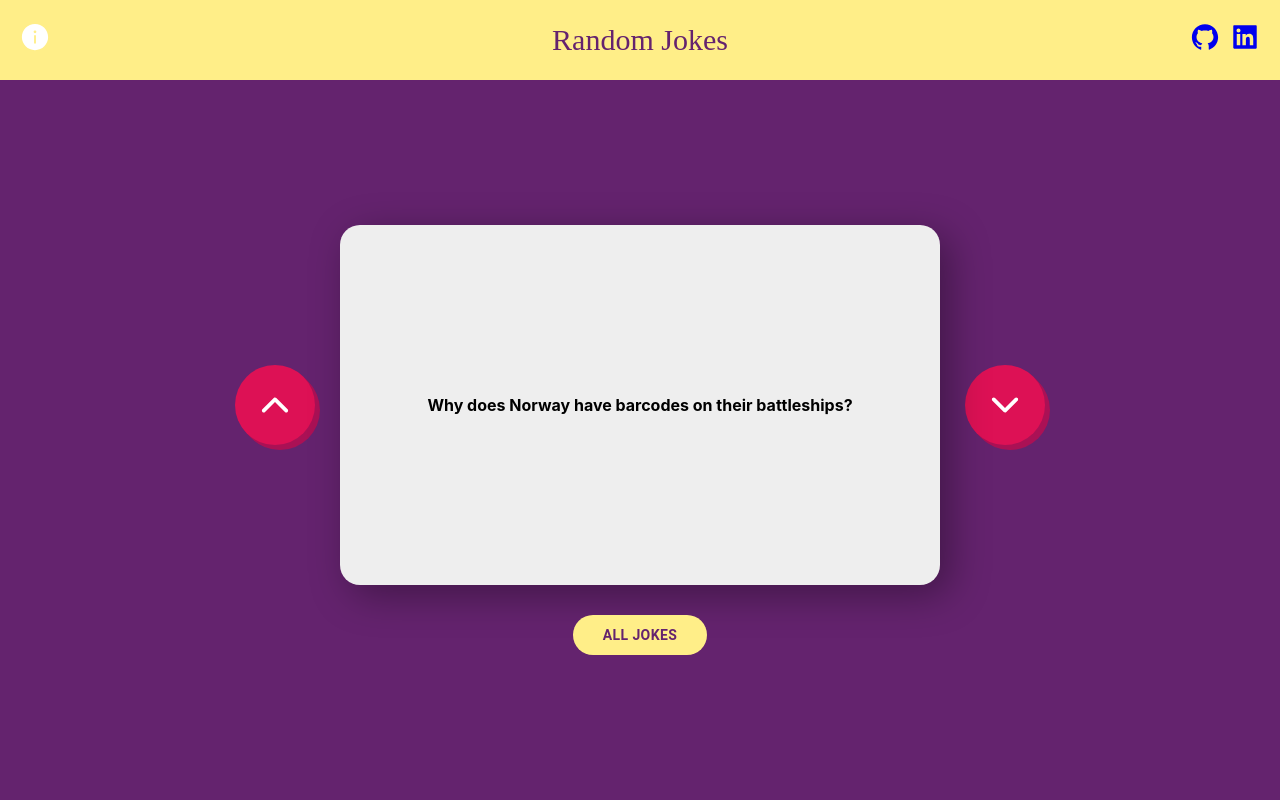
Test: Clicking JokeCard reveals the joke
The width and height of the screenshot is (1280, 800).
Expected: the text "Why does Norway have barcodes on their battleships?" is shown, [427,395,853,415]
Expected: the text "So when they get back to port, they can Scandinavian." is not shown
Click the button with test id "joke-card-setup".
click(640, 405)  # box [340,225,940,585]
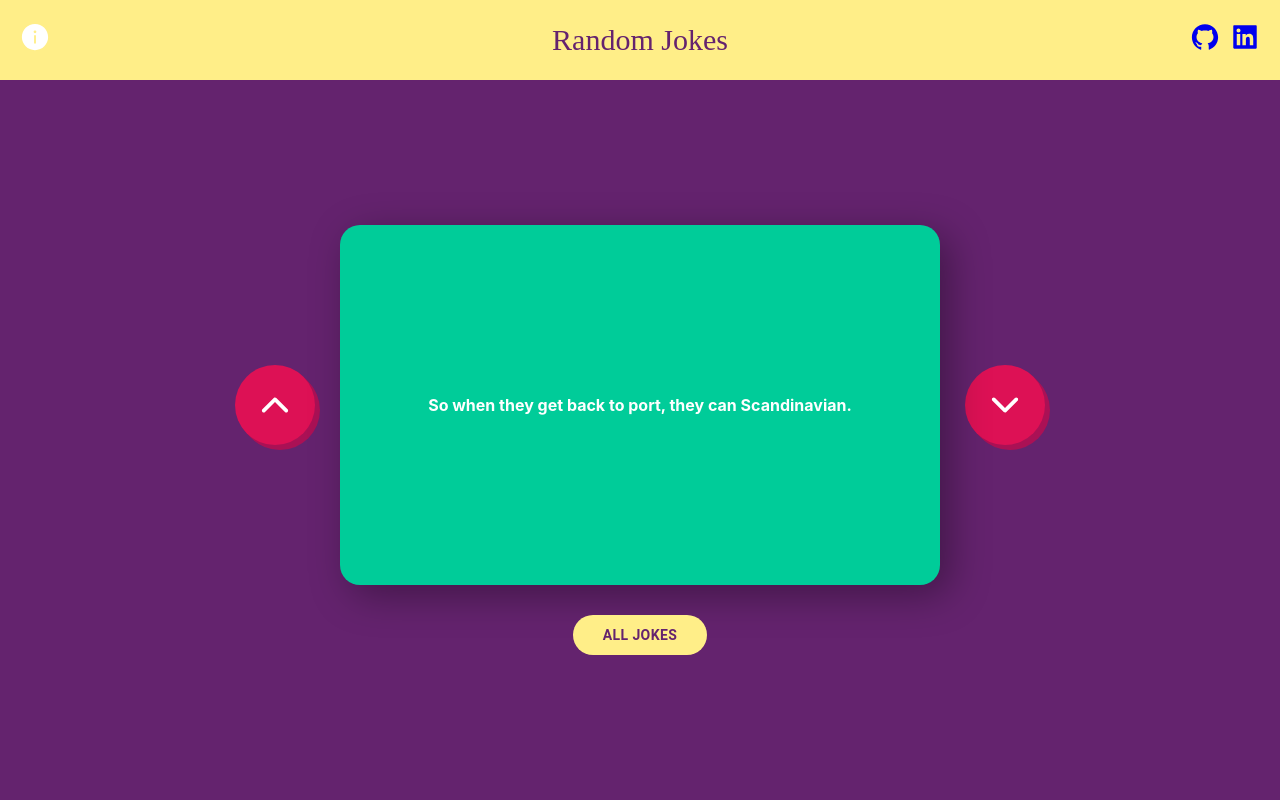
Result: the text "So when they get back to port, they can Scandinavian." is shown at [428,395,852,415]
